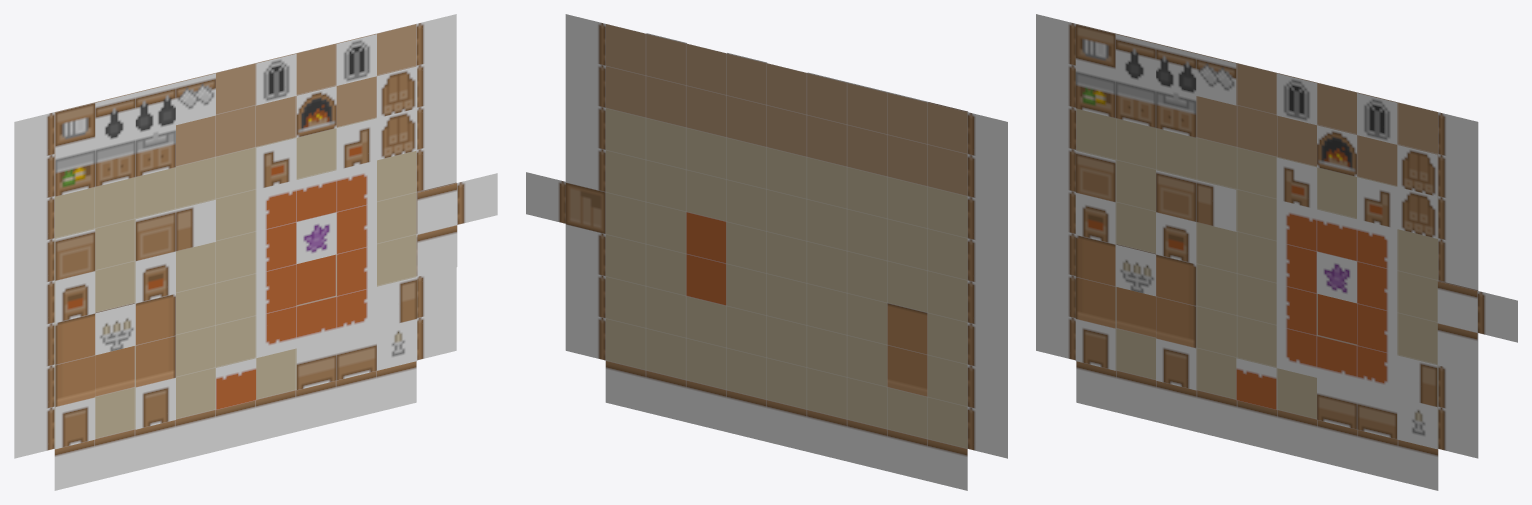
File: house1_a.obj
The picture shows the model from 3 angles, left to right: view 1: azimuth 30°, elevation 25°; view 2: azimuth 150°, elevation 25°; view 3: azimuth 330°, elevation 25°; orthographic projection.
Parts seen in each view (by area): view 1: house1_a.0; view 2: house1_a.0; view 3: house1_a.0.
Boxes of the visible parts, bbox=[...] form: house1_a.0: bbox=[14, 14, 497, 490]; house1_a.0: bbox=[526, 14, 1007, 490]; house1_a.0: bbox=[1036, 14, 1517, 490].
Bounding box in the file's own units: 12 × 9 × 0.03.
